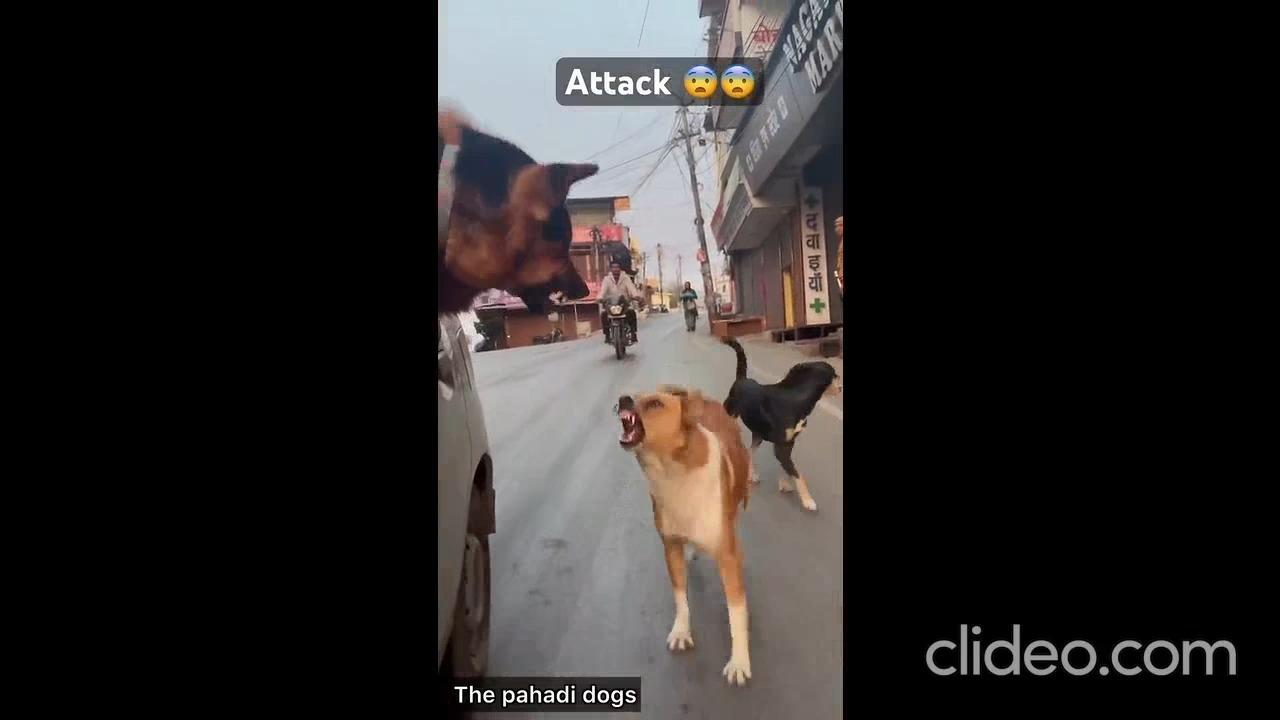dog: (619, 368, 753, 689), (720, 324, 834, 510)
